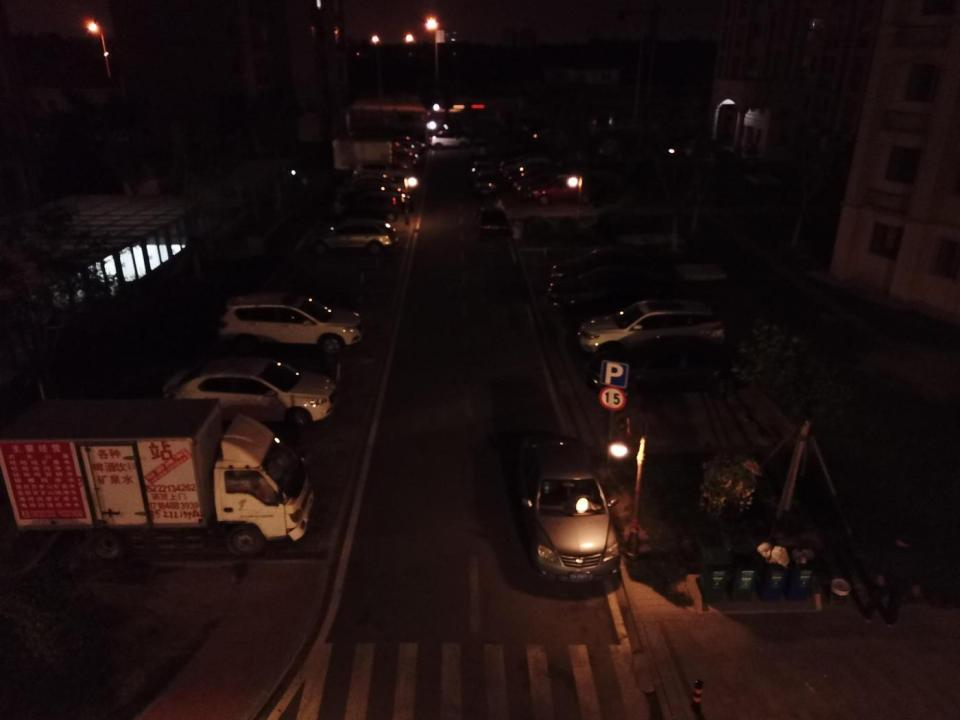car: (503, 436, 617, 584), (165, 353, 343, 432), (584, 343, 763, 398), (577, 297, 729, 357), (214, 297, 365, 357), (543, 265, 690, 323), (542, 246, 656, 293), (310, 221, 404, 255), (342, 186, 413, 215), (528, 176, 597, 205), (514, 174, 578, 203), (344, 175, 408, 204), (342, 194, 400, 222), (500, 156, 556, 184), (348, 165, 408, 191), (509, 167, 568, 193), (475, 203, 510, 239), (500, 152, 551, 176), (427, 128, 469, 152), (468, 159, 498, 183), (472, 169, 500, 194), (469, 138, 492, 158)
truck: (0, 393, 317, 559)
